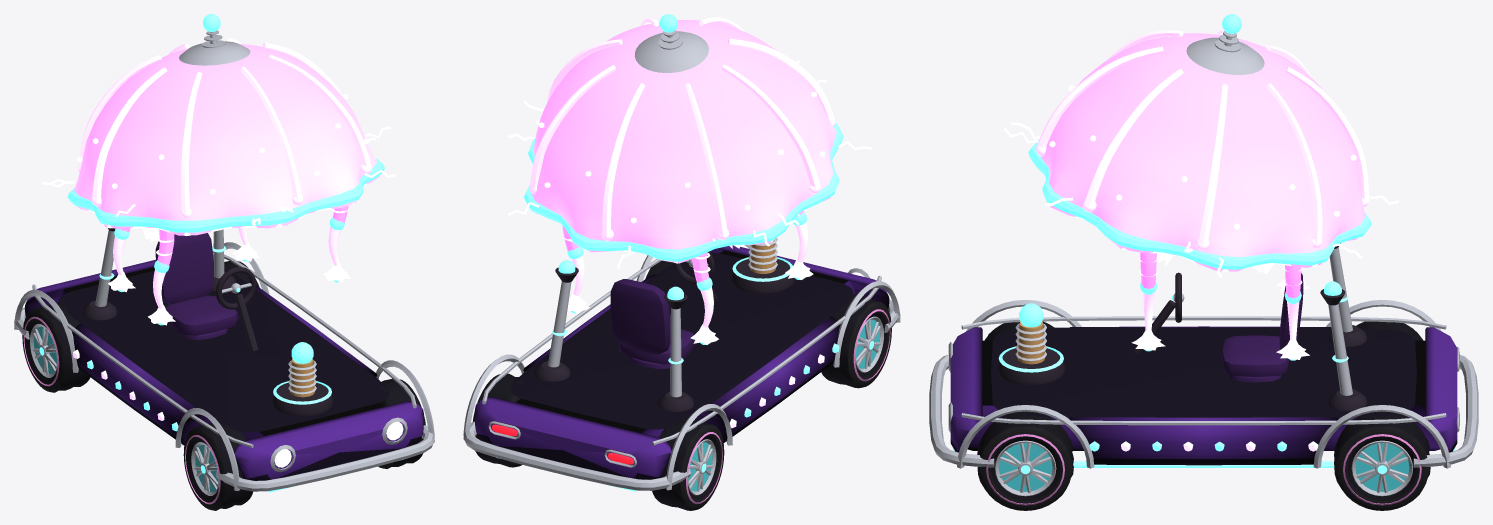
File: jelly_jolt.glb
3 renders of one model, left to right at view 1: azimuth 30°, elevation 25°; view 2: azimuth 150°, elevation 25°; view 3: azimuth 270°, elevation 25°, orthographic. The views are drawn at different scales.
Parts seen in each view (by area): view 1: bell_dome, deck, pod, bell_ring, seat_back, bumper_1, wheel_FR_tyre, wheel_RR_tyre, seat_cushion, coil_drum, crown, rib_1 (+17 smaller); view 2: bell_dome, deck, pod, bell_ring, seat_back, bumper_0, wheel_RR_tyre, wheel_FR_tyre, crown, rib_6, coil_drum, rib_5 (+16 smaller); view 3: bell_dome, deck, pod, wheel_FL_tyre, wheel_RL_tyre, bell_ring, seat_cushion, shoulder_1, shoulder_0, crown, bumper_1, bumper_0 (+20 smaller).
Boxes of the visible parts, left/top/right/bottom form: bell_dome: left=74, top=43, right=379, bottom=235; deck: left=59, top=268, right=389, bottom=432; pod: left=24, top=259, right=424, bottom=480; bell_ring: left=67, top=159, right=384, bottom=232; seat_back: left=155, top=233, right=213, bottom=303; bumper_1: left=215, top=425, right=434, bottom=491; wheel_FR_tyre: left=183, top=422, right=252, bottom=510; wheel_RR_tyre: left=22, top=302, right=90, bottom=392; seat_cushion: left=165, top=295, right=238, bottom=335; coil_drum: left=272, top=382, right=333, bottom=416; crown: left=179, top=41, right=250, bottom=65; rib_1: left=268, top=55, right=371, bottom=168; bell_dome: left=530, top=19, right=836, bottom=263; deck: left=510, top=253, right=853, bottom=429; pod: left=474, top=245, right=889, bottom=479; bell_ring: left=524, top=122, right=843, bottom=261; seat_back: left=610, top=279, right=670, bottom=354; bumper_0: left=463, top=421, right=691, bottom=490; wheel_RR_tyre: left=652, top=419, right=724, bottom=510; wheel_FR_tyre: left=821, top=294, right=891, bottom=388; crown: left=634, top=31, right=708, bottom=72; rib_6: left=721, top=64, right=820, bottom=189; coil_drum: left=731, top=259, right=794, bottom=293; rib_5: left=685, top=83, right=727, bottom=236; bell_dome: left=1041, top=33, right=1365, bottom=271; deck: left=991, top=327, right=1416, bottom=417; pod: left=950, top=326, right=1457, bottom=465; wheel_FL_tyre: left=977, top=411, right=1073, bottom=510; wheel_RL_tyre: left=1334, top=411, right=1430, bottom=510; bell_ring: left=1028, top=140, right=1371, bottom=269; seat_cushion: left=1221, top=335, right=1289, bottom=377; shoulder_1: left=961, top=413, right=1446, bottom=425; shoulder_0: left=961, top=316, right=1446, bottom=329; crown: left=1186, top=37, right=1264, bottom=74; bumper_1: left=929, top=355, right=994, bottom=467; bumper_0: left=1413, top=355, right=1478, bottom=467.
Size of the model in its own units: 3.41 by 4.25 by 4.78.
